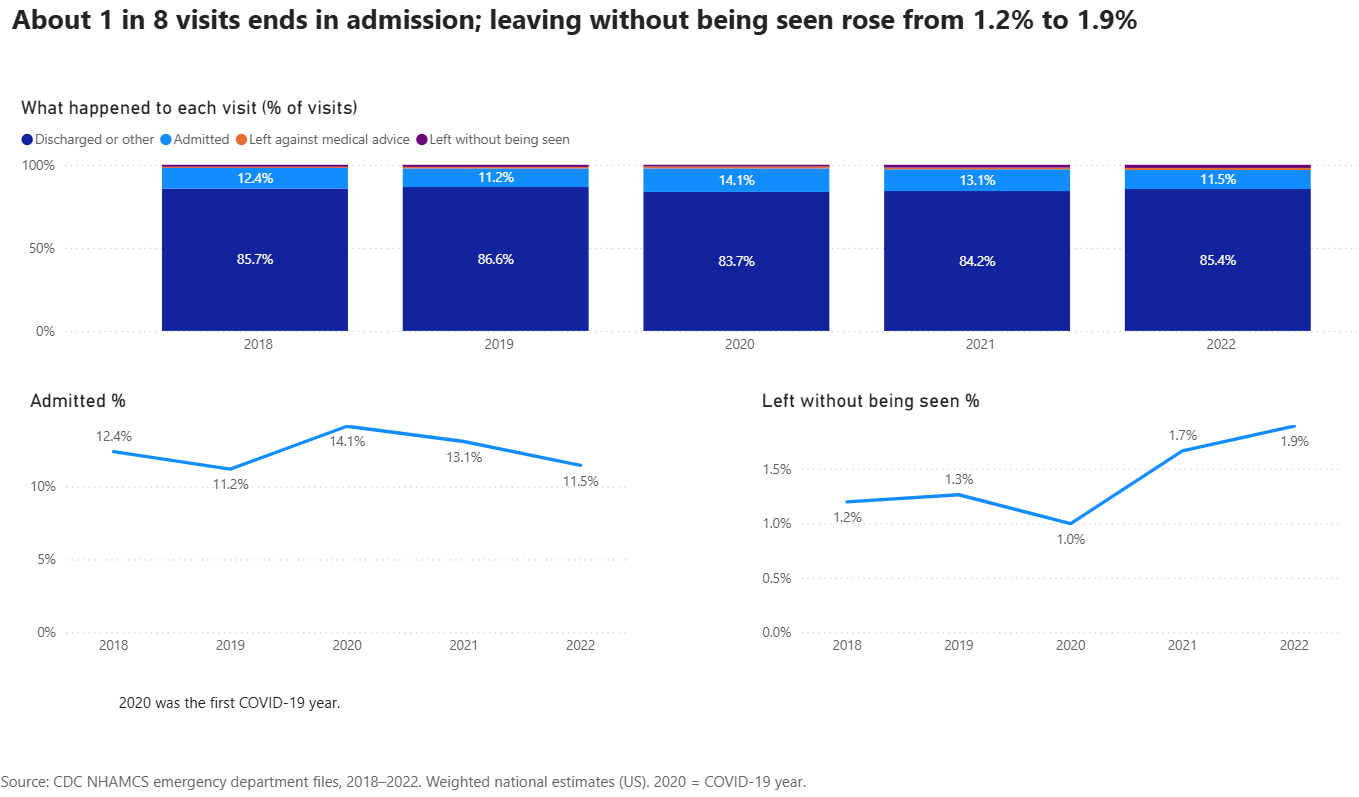

What the dashboard file says about the page in this screenshot:
{"tool":"powerbi","page":{"name":"Patient flow","canvas":[1280,720],"ordinal":3},"visuals":[{"type":"textbox","box":[9.5,0,1110.2,51.7],"z":0},{"type":"textbox","box":[0,684.2,1175.6,35.8],"z":1000},{"type":"hundredPercentStackedColumnChart","title":"What happened to each visit (% of visits)","fields":{"Category":["dim_year.year"],"Y":["_Measures.Visits"],"Series":["dim_outcome.outcome"]},"box":[17.9,90.7,1245.2,238.3],"z":2000},{"type":"lineChart","title":"Admitted %","fields":{"Category":["dim_year.year"],"Y":["_Measures.Admitted %"]},"box":[25.3,350,539.8,245.7],"z":3000},{"type":"lineChart","title":"Left without being seen %","fields":{"Category":["dim_year.year"],"Y":["_Measures.Left Without Being Seen %"]},"box":[674.8,350,521.9,245.7],"z":4000},{"type":"textbox","box":[104.4,614.7,216.1,27.4],"z":5000}]}

Visuals, with their boxes on the page's 1280x720 design canvas (x1, y1, x2, y2). These are canvas units, not pixel positions in the 1359x797 screenshot, which may show the page scaled, cropped or inside an application window:
textbox: 10,0,1120,52
textbox: 0,684,1176,720
"What happened to each visit (% of visits)" hundredPercentStackedColumnChart: 18,91,1263,329
"Admitted %" lineChart: 25,350,565,596
"Left without being seen %" lineChart: 675,350,1197,596
textbox: 104,615,320,642
